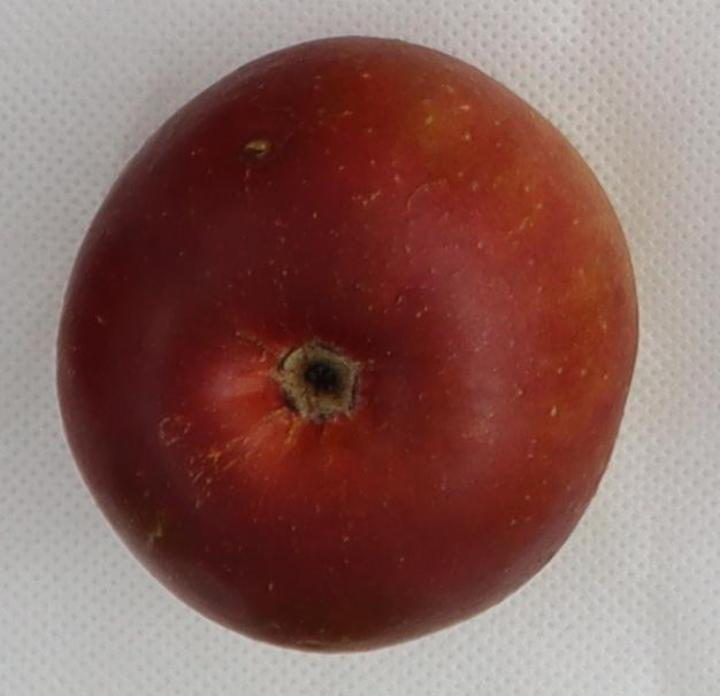apple: (58, 37, 637, 651)
surface_damage: (243, 138, 271, 160)
